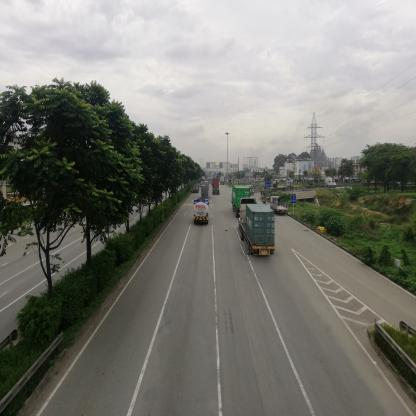container: (242, 203, 276, 256), (232, 187, 251, 205), (275, 180, 293, 193), (319, 179, 338, 189), (213, 180, 220, 195)
truck: (271, 196, 290, 214), (195, 200, 209, 224), (193, 184, 201, 193)
